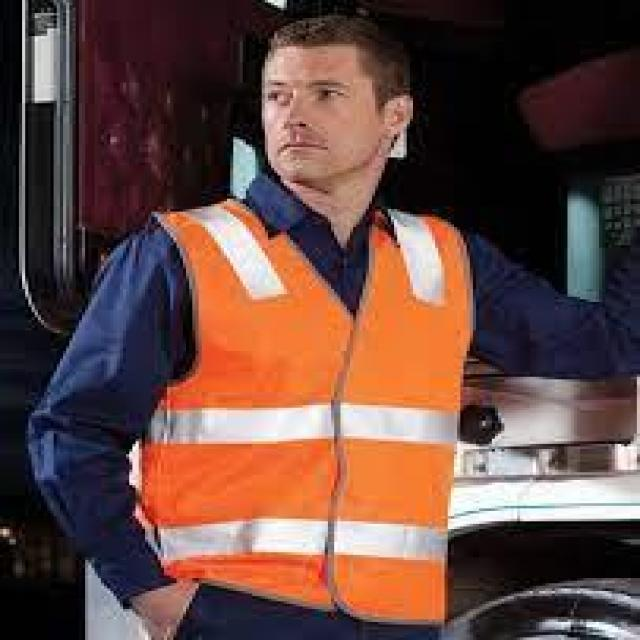vest: (153, 209, 452, 625)
